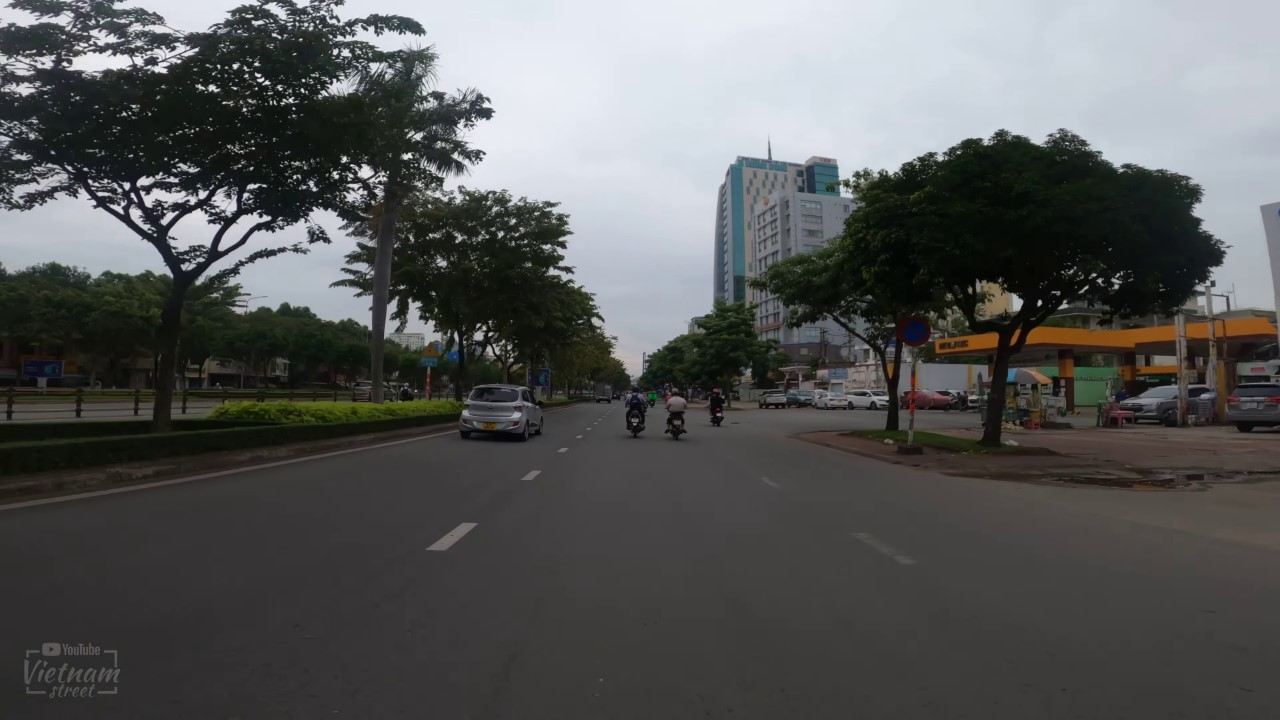cam_do_xe: (895, 313, 933, 350)
